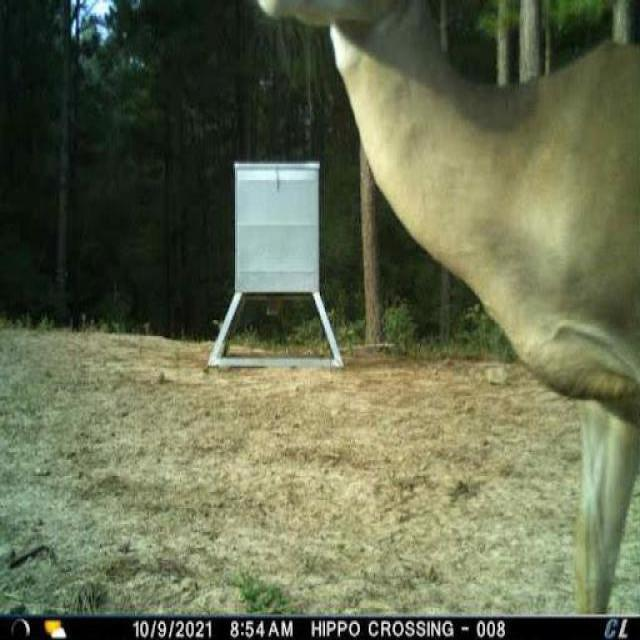deer: (246, 0, 640, 613)
